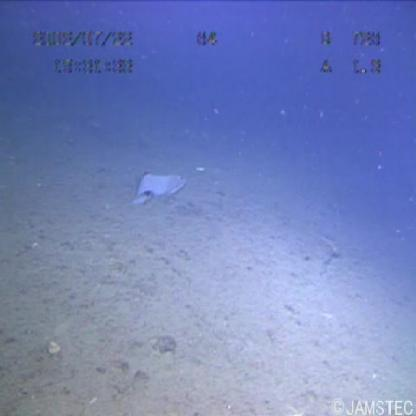Rác: (135, 163, 192, 207)
